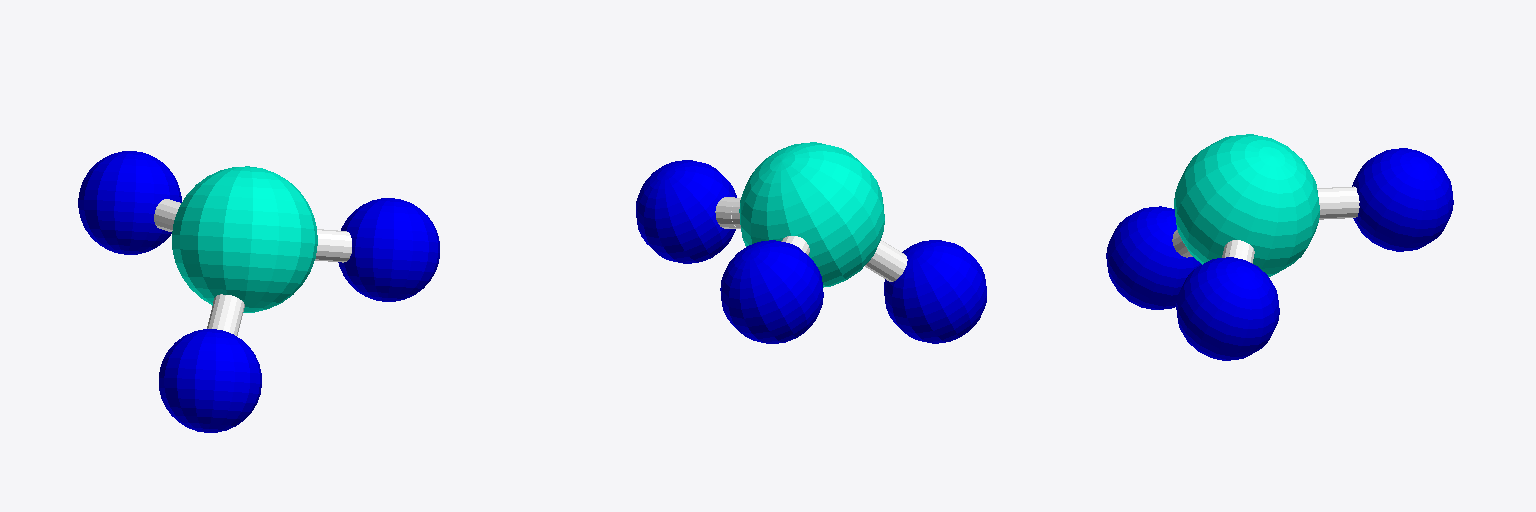
The model's file is amonia.obj.
The picture shows the model from 3 angles: view 1: azimuth 30°, elevation 25°; view 2: azimuth 150°, elevation 25°; view 3: azimuth 270°, elevation 25°; orthographic projection.
Parts seen in each view (by area): view 1: Shape_Sphere_Shape_Sphere.006, Shape_Sphere.002_Shape_Sphere.008, Shape_Sphere.001_Shape_Sphere.007, Shape_Sphere.003_Shape_Sphere, Shape_Cylinder.001_Shape_Cylinder.009, Shape_Cylinder.002_Shape_Cylinder.010, Shape_Cylinder.003_Shape_Cylinder.011; view 2: Shape_Sphere_Shape_Sphere.006, Shape_Sphere.003_Shape_Sphere, Shape_Sphere.002_Shape_Sphere.008, Shape_Sphere.001_Shape_Sphere.007, Shape_Cylinder.003_Shape_Cylinder.011; view 3: Shape_Sphere_Shape_Sphere.006, Shape_Sphere.001_Shape_Sphere.007, Shape_Sphere.003_Shape_Sphere, Shape_Sphere.002_Shape_Sphere.008, Shape_Cylinder.005_Shape_Cylinder.013, Shape_Cylinder.004_Shape_Cylinder.012.
Part boxes in pixels (x1,y1,x2,y2): Shape_Sphere_Shape_Sphere.006: (172, 166, 317, 312); Shape_Sphere.002_Shape_Sphere.008: (159, 329, 261, 432); Shape_Sphere.001_Shape_Sphere.007: (338, 198, 439, 301); Shape_Sphere.003_Shape_Sphere: (78, 151, 181, 254); Shape_Cylinder.001_Shape_Cylinder.009: (327, 230, 351, 262); Shape_Cylinder.002_Shape_Cylinder.010: (210, 294, 244, 322); Shape_Cylinder.003_Shape_Cylinder.011: (207, 312, 240, 335); Shape_Sphere_Shape_Sphere.006: (739, 142, 884, 287); Shape_Sphere.003_Shape_Sphere: (720, 240, 823, 343); Shape_Sphere.002_Shape_Sphere.008: (884, 240, 986, 343); Shape_Sphere.001_Shape_Sphere.007: (636, 160, 736, 263); Shape_Cylinder.003_Shape_Cylinder.011: (874, 245, 907, 281); Shape_Sphere_Shape_Sphere.006: (1174, 134, 1319, 276); Shape_Sphere.001_Shape_Sphere.007: (1176, 257, 1279, 360); Shape_Sphere.003_Shape_Sphere: (1352, 148, 1453, 251); Shape_Sphere.002_Shape_Sphere.008: (1106, 206, 1201, 309); Shape_Cylinder.005_Shape_Cylinder.013: (1334, 186, 1359, 218); Shape_Cylinder.004_Shape_Cylinder.012: (1317, 187, 1338, 219).
Bounding box in the file's own units: 2.22 × 1.42 × 2.2.